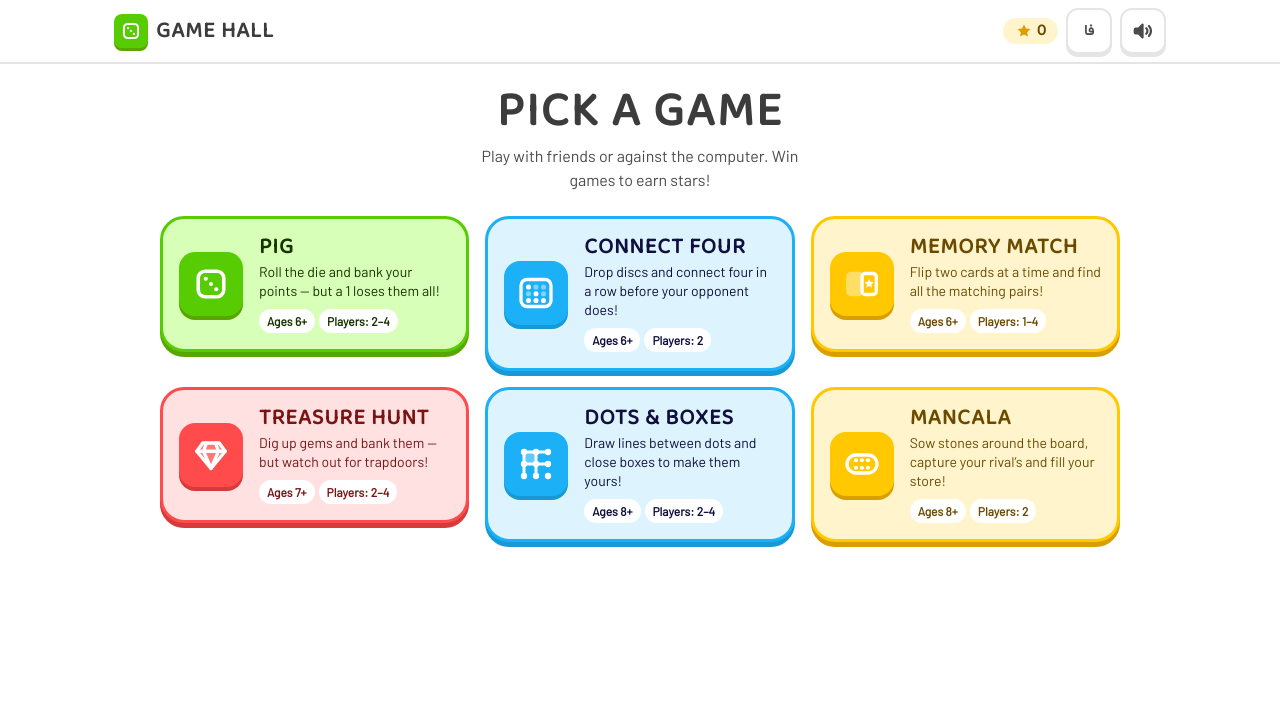
Test: lobby › starts at zero stars and speaks Persian when asked
Expected: the element named "0 stars" is shown, [1003,18,1058,44]
Click the button with aria-label "Switch to Persian": (1089, 31) [1066,8,1112,54]
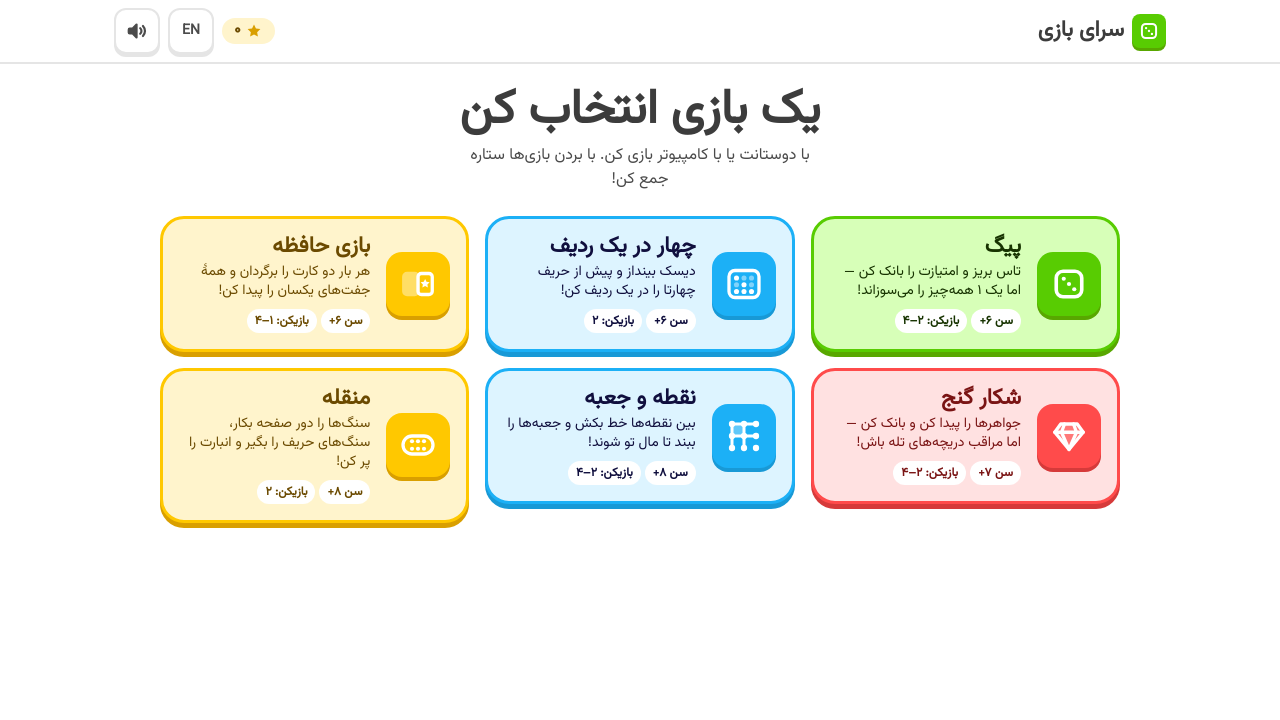
Expected: the heading "یک بازی انتخاب کن" is shown, [460,74,821,149]
Expected: the element named "۰ ستاره" is shown, [222,18,275,44]
